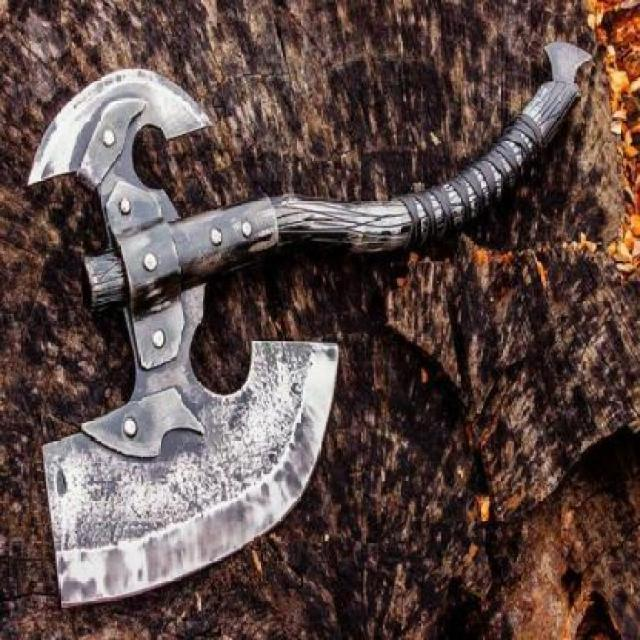weapon: (27, 39, 590, 622)
